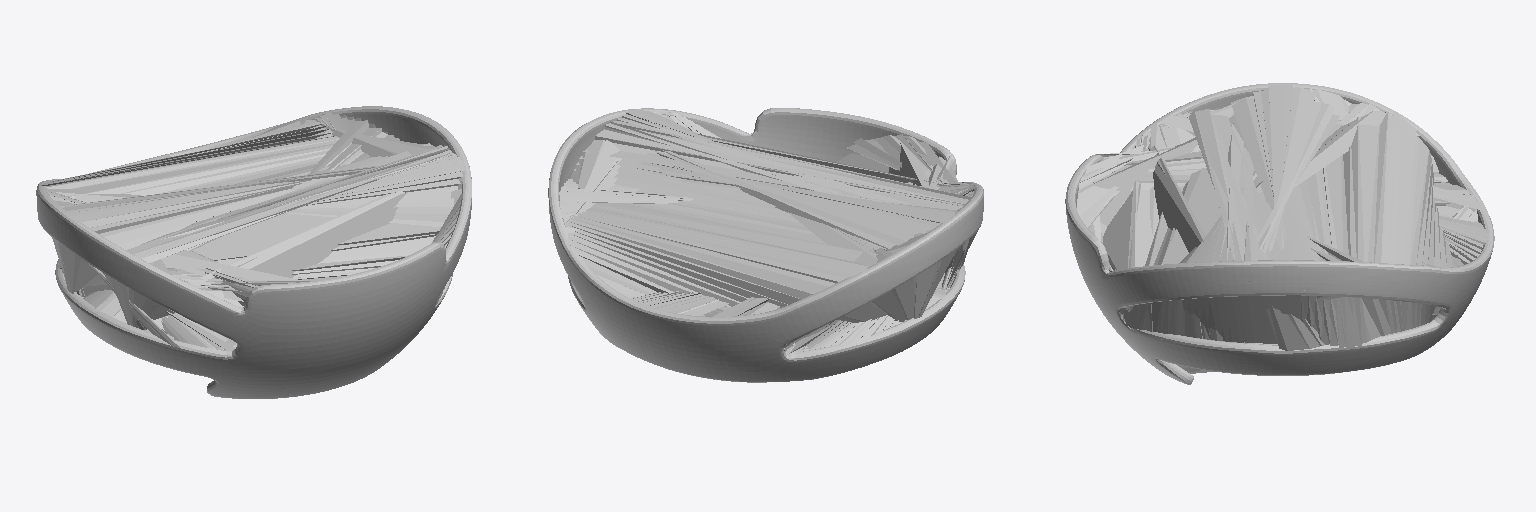
File: medical mask.obj
The picture shows the model from 3 angles: view 1: azimuth 30°, elevation 25°; view 2: azimuth 150°, elevation 25°; view 3: azimuth 270°, elevation 25°; orthographic projection.
Visible parts, largest first — view 1: Group27429, Group19410; view 2: Group27429, Group19410; view 3: Group27429, Group19410.
Boxes of the visible parts, x1,y1,x2,y2 form: Group27429: [40, 113, 470, 390]; Group19410: [36, 106, 471, 398]; Group27429: [559, 110, 981, 375]; Group19410: [548, 108, 983, 382]; Group27429: [1068, 84, 1492, 381]; Group19410: [1065, 83, 1494, 384].
Bounding box in the file's own units: 25.23 × 10.8 × 24.83.